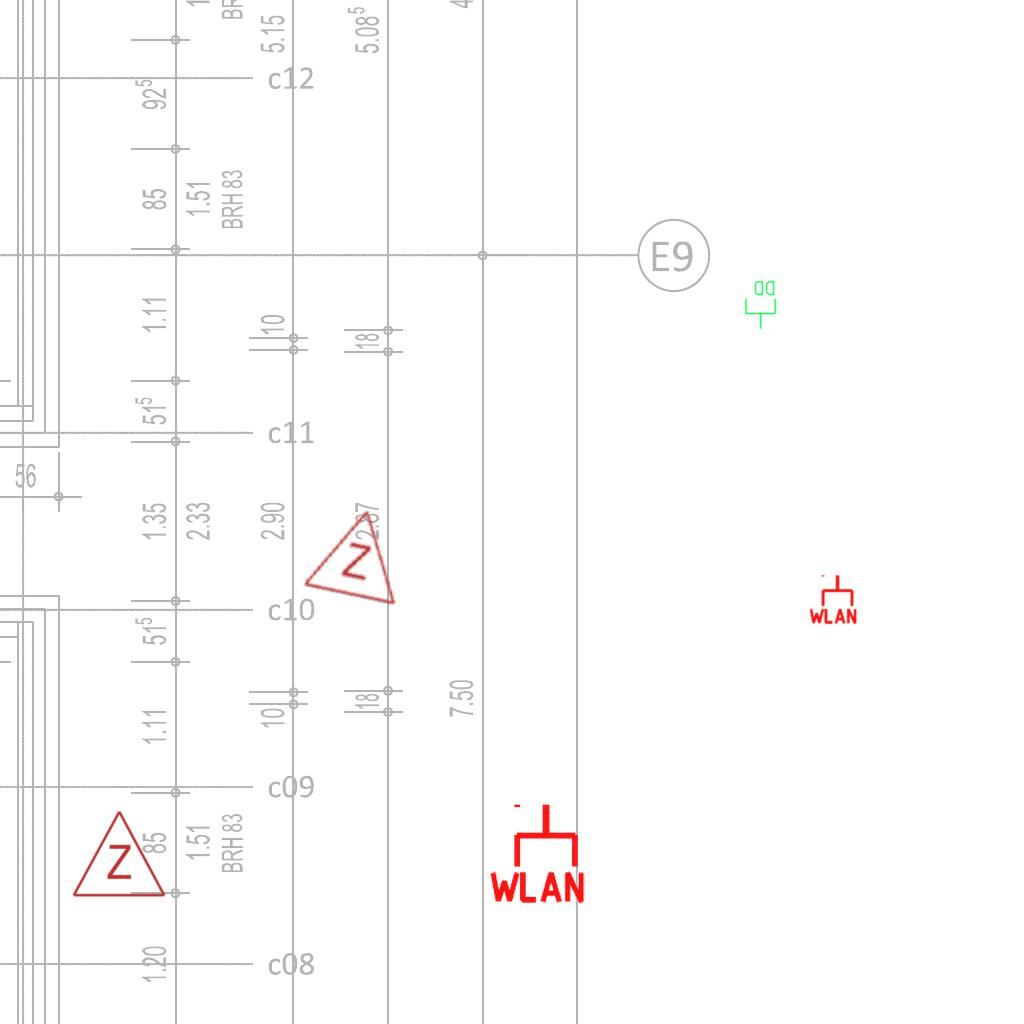Datenanschluss_zweifach: (744, 279, 778, 330)
WLAN: (485, 800, 589, 905), (807, 573, 859, 625)
Zimmersignalleuchte: (298, 493, 416, 613), (69, 804, 167, 904)
